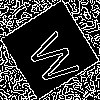W: (25, 25, 89, 90)
